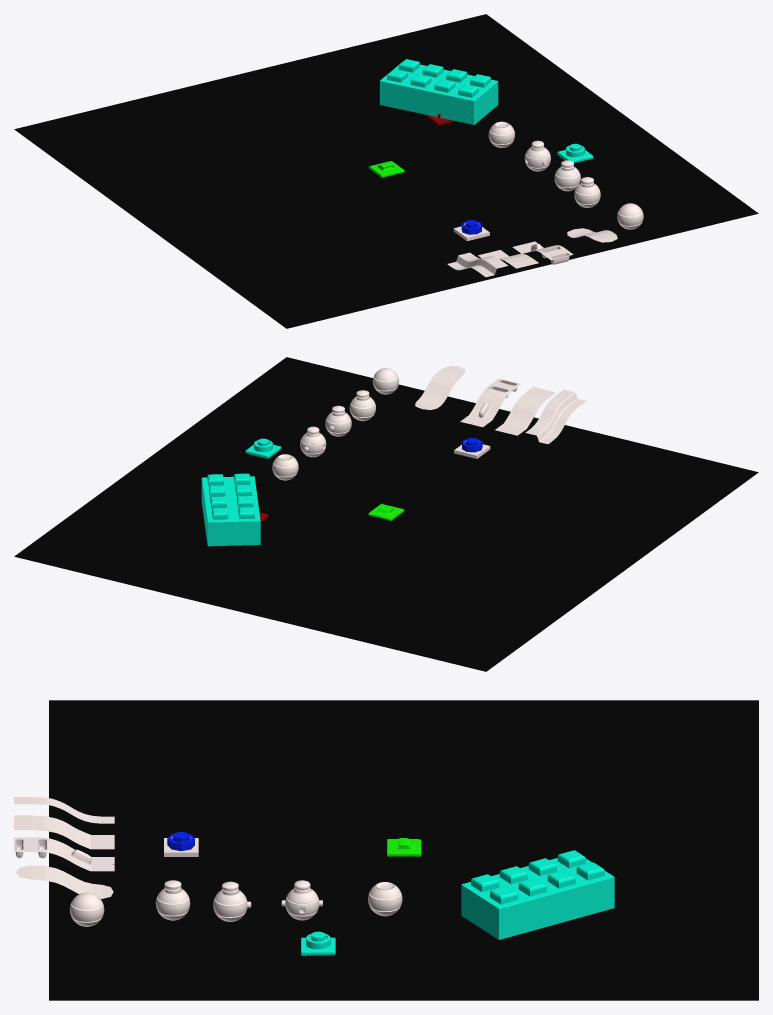
Rendered from Module5.fbx.
3 renders of one model, top to bottom at view 1: azimuth 30°, elevation 25°; view 2: azimuth 150°, elevation 25°; view 3: azimuth 270°, elevation 25°, orthographic. The views are drawn at different scales.
Parts seen in each view (by area): view 1: Plane.004, Cube, Plane.001, Plane.003, Sphere.003, Sphere.001, Sphere.004, Sphere, Sphere.002; view 2: Plane.004, Cube, Plane.001, Plane.003, Plane.002, Plane, Sphere.001, Sphere.003, Sphere.004, Sphere.002, Sphere; view 3: Plane.004, Cube, Plane.003, Plane.002, Plane, Sphere.004, Sphere.003, Sphere.001, Sphere, Sphere.002, Plane.001, Cube.001 (+2 smaller).
Boxes of the visible parts, bbox=[...] form: Plane.004: bbox=[14, 14, 758, 328]; Cube: bbox=[379, 59, 498, 124]; Plane.001: bbox=[447, 252, 508, 277]; Plane.003: bbox=[512, 241, 573, 264]; Sphere.003: bbox=[554, 160, 580, 191]; Sphere.001: bbox=[574, 177, 600, 207]; Sphere.004: bbox=[524, 140, 550, 171]; Sphere: bbox=[617, 203, 643, 229]; Sphere.002: bbox=[488, 121, 514, 147]; Plane.004: bbox=[14, 357, 758, 671]; Cube: bbox=[201, 473, 260, 546]; Plane.001: bbox=[525, 389, 586, 444]; Plane.003: bbox=[460, 378, 520, 427]; Plane.002: bbox=[495, 387, 555, 435]; Plane: bbox=[415, 365, 465, 409]; Sphere.001: bbox=[349, 390, 375, 421]; Sphere.003: bbox=[325, 405, 351, 436]; Sphere.004: bbox=[300, 426, 326, 457]; Sphere.002: bbox=[272, 454, 298, 480]; Sphere: bbox=[372, 368, 399, 394]; Plane.004: bbox=[49, 700, 758, 1000]; Cube: bbox=[461, 850, 614, 939]; Plane.003: bbox=[14, 837, 114, 871]; Plane.002: bbox=[14, 815, 114, 849]; Plane: bbox=[15, 865, 113, 898]; Sphere.004: bbox=[281, 880, 322, 920]; Sphere.003: bbox=[213, 881, 251, 921]; Sphere.001: bbox=[155, 880, 190, 920]; Sphere: bbox=[69, 892, 104, 926]; Sphere.002: bbox=[368, 882, 402, 916]; Plane.001: bbox=[14, 797, 114, 823]; Cube.001: bbox=[164, 831, 198, 856].
Bounding box in the file's own units: 4107 × 277 × 4309.
